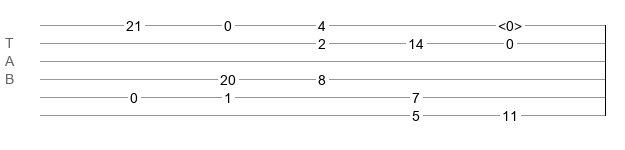0: (130, 90, 138, 100), (224, 18, 232, 28), (506, 36, 514, 46)
1: (224, 90, 232, 100)
11: (502, 108, 518, 118)
14: (408, 36, 424, 46)
2: (318, 36, 326, 46)
20: (220, 72, 236, 82)
21: (126, 18, 142, 28)
4: (318, 18, 326, 28)
5: (412, 108, 420, 118)
7: (412, 90, 420, 100)
8: (318, 72, 326, 82)
harmonic: (498, 18, 522, 28)
